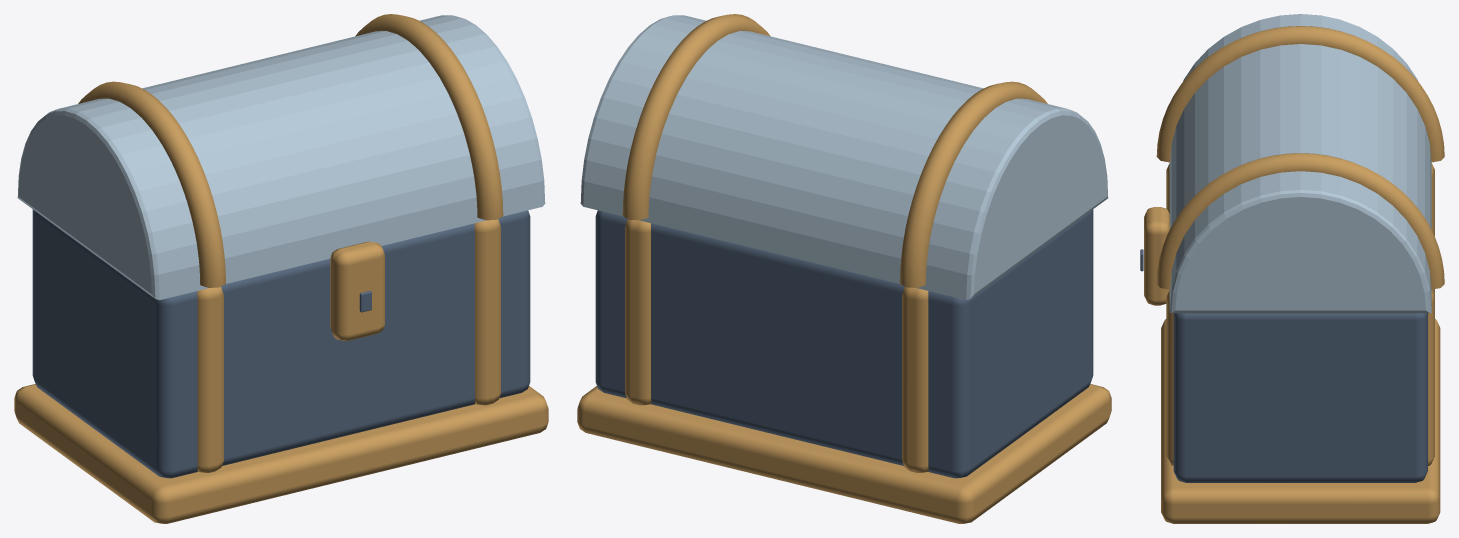
Rendered from moonsteel-convergence-relic-coffer-7406693a__18200.glb.
3 views of the same model, side by side, from view 1: azimuth 30°, elevation 25°; view 2: azimuth 150°, elevation 25°; view 3: azimuth 270°, elevation 25° (orthographic). The views are drawn at different scales.
Visible parts, largest first — view 1: relic-coffer, lid-silver, lid-gold; view 2: relic-coffer, lid-silver, lid-gold; view 3: relic-coffer, lid-silver, lid-gold.
Boxes of the visible parts, <box> form: relic-coffer: <box>14,209,548,523</box>; lid-silver: <box>17,15,545,300</box>; lid-gold: <box>78,14,503,287</box>; relic-coffer: <box>577,209,1111,523</box>; lid-silver: <box>580,15,1108,300</box>; lid-gold: <box>622,14,1047,287</box>; relic-coffer: <box>1140,163,1440,523</box>; lid-silver: <box>1169,14,1431,313</box>; lid-gold: <box>1156,26,1444,289</box>.
Bounding box in the file's own units: 1.2 × 1.07 × 0.85.
